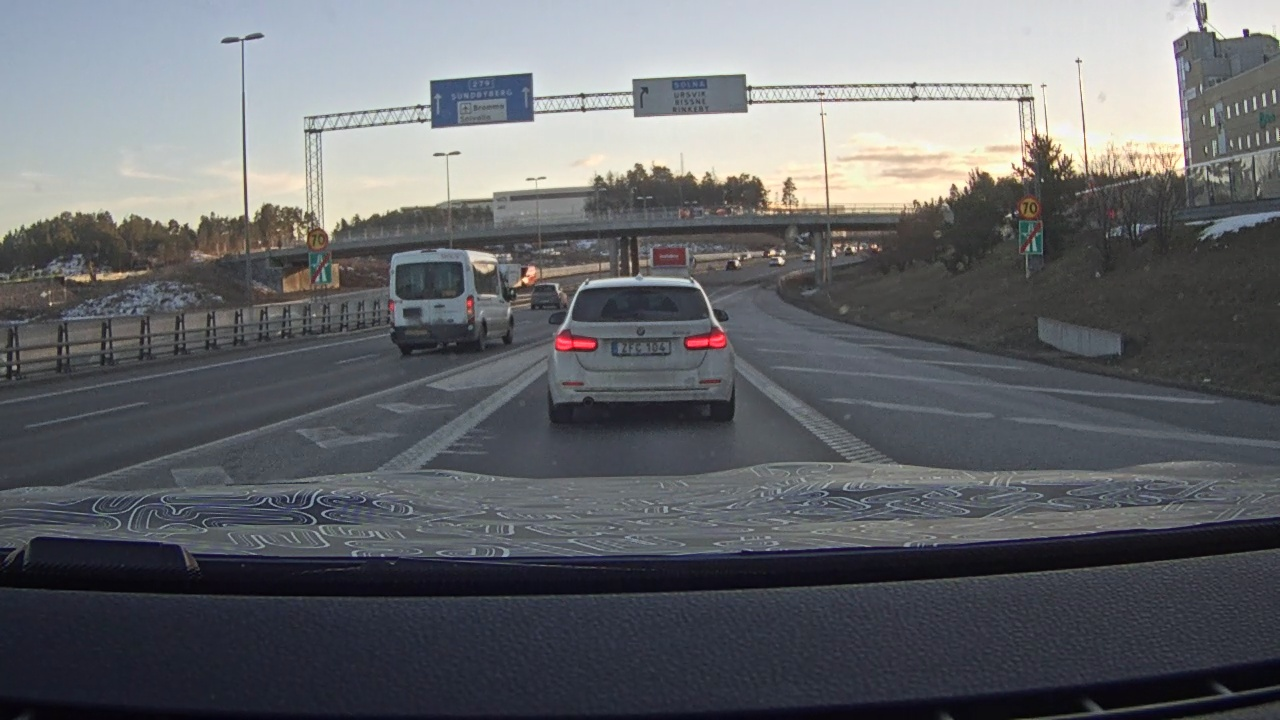Regular_End_Of_Motorway: (1018, 220, 1044, 258)
